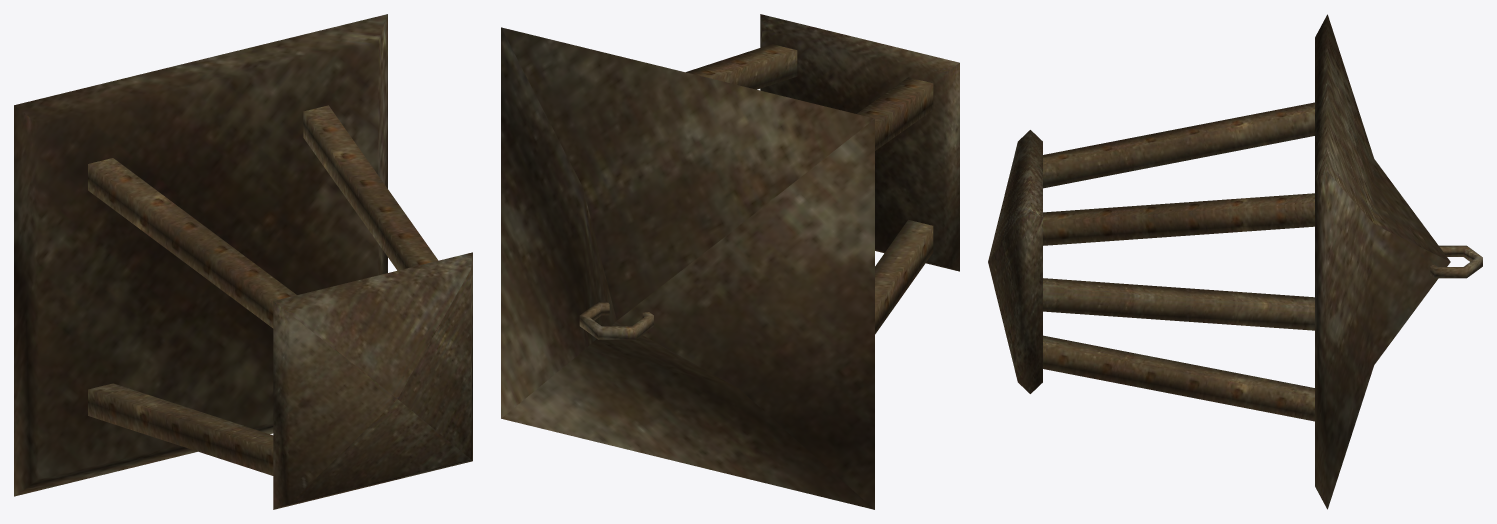
File: lantern_LOD20.glb
3 renders of one model, left to right at view 1: azimuth 30°, elevation 25°; view 2: azimuth 150°, elevation 25°; view 3: azimuth 270°, elevation 25°, orthographic. The views are drawn at different scales.
Visible parts, largest first — view 1: l_lampstruct0.jpg__; view 2: l_lampstruct0.jpg__; view 3: l_lampstruct0.jpg__.
Part boxes in pixels (x1,y1,x2,y2): l_lampstruct0.jpg__: (14, 14, 472, 509); l_lampstruct0.jpg__: (501, 14, 959, 509); l_lampstruct0.jpg__: (988, 14, 1482, 509).
Size of the model in its own units: 1.04 by 1.04 by 1.38.
Materials: 1 (1 with a texture image).
